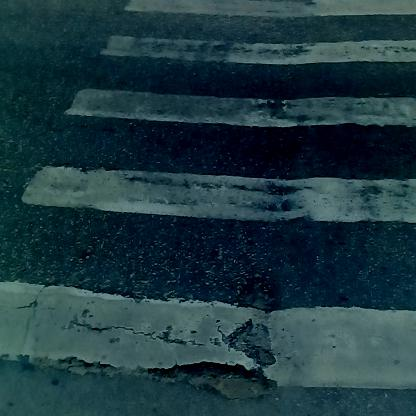crosswalk: (51, 8, 398, 416)
